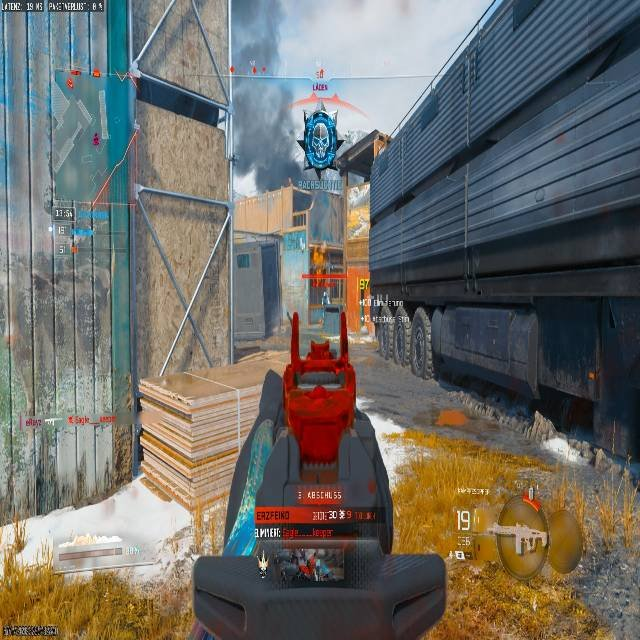player: (321, 290, 329, 305)
